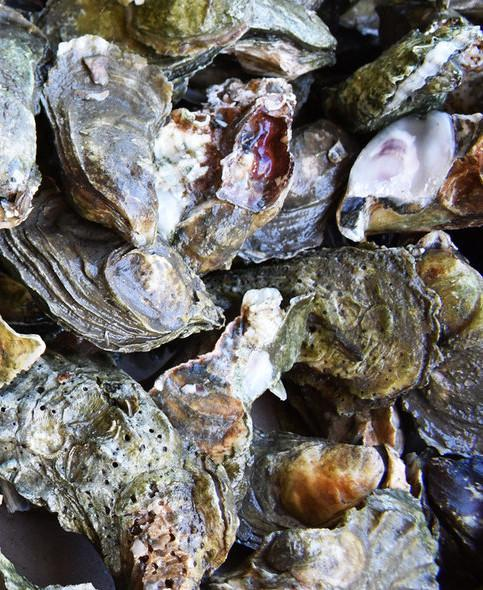3: (228, 0, 339, 81), (429, 455, 483, 555)
Oyster-Open: (0, 352, 238, 590), (0, 162, 224, 353), (204, 249, 445, 414), (41, 36, 176, 247), (158, 78, 294, 273), (34, 0, 254, 100), (238, 428, 408, 549), (329, 16, 483, 131), (241, 120, 364, 259), (250, 508, 441, 590), (405, 305, 483, 458), (0, 5, 49, 228), (106, 243, 192, 333), (411, 232, 482, 335)
